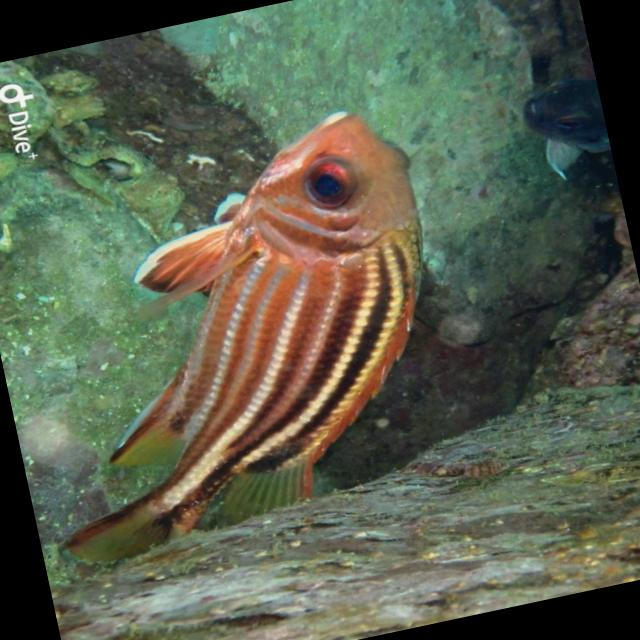Asker Baligi: (0, 95, 482, 571)
